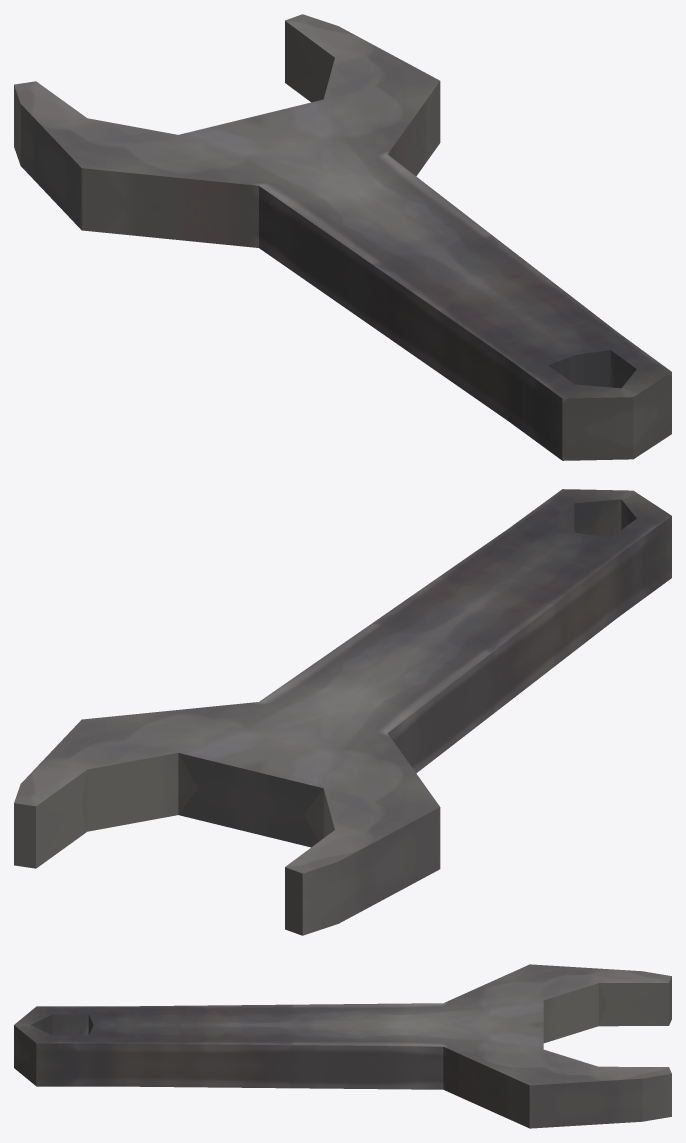
Rendered from wrench (1).glb.
The picture shows the model from 3 angles, top to bottom: view 1: azimuth 30°, elevation 25°; view 2: azimuth 150°, elevation 25°; view 3: azimuth 270°, elevation 25°; orthographic projection. The views are drawn at different scales.
Visible parts, largest first — view 1: Cube; view 2: Cube; view 3: Cube.
Boxes of the visible parts, x1,y1,x2,y2 form: Cube: (14,14,671,460); Cube: (14,489,671,935); Cube: (14,964,671,1128).
Bounding box in the file's own units: 4.61 × 0.7656 × 10.59.
Materials: 1 (1 with a texture image).
